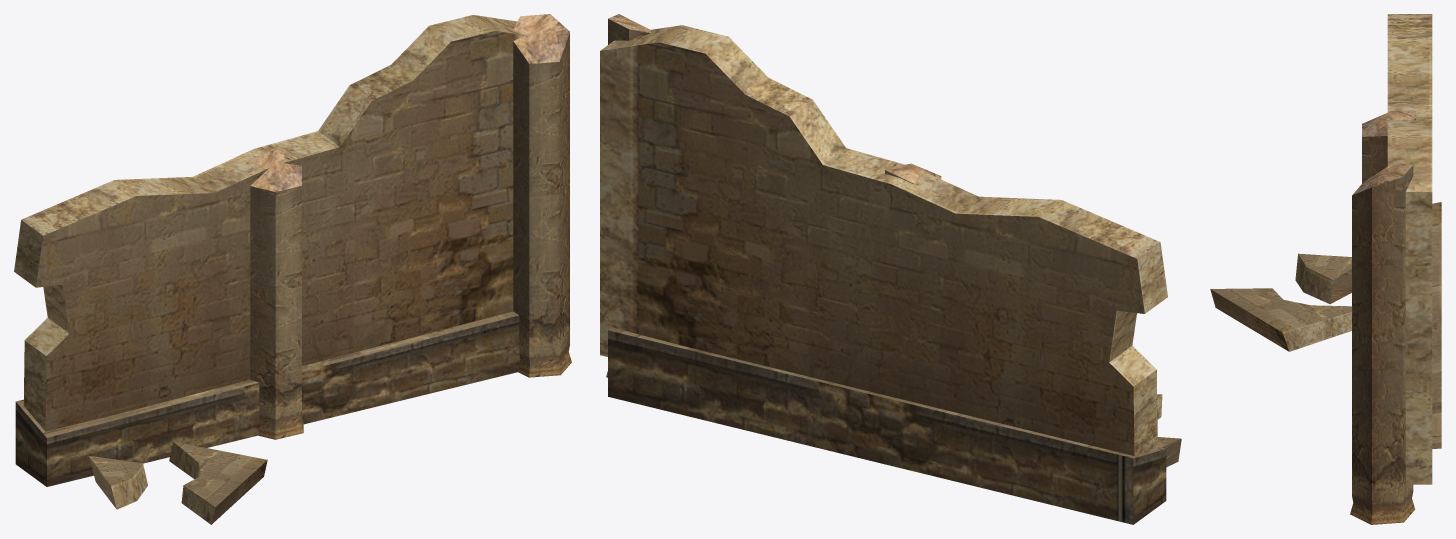
The model's file is yw_huxiaoshamo_qiang03.FBX.
3 views of the same model, side by side, from view 1: azimuth 30°, elevation 25°; view 2: azimuth 150°, elevation 25°; view 3: azimuth 270°, elevation 25° (orthographic). The views are drawn at different scales.
Visible parts, largest first — view 1: yw_huxiaoshamo_qiang03; view 2: yw_huxiaoshamo_qiang03; view 3: yw_huxiaoshamo_qiang03.
Part boxes in pixels (box(x1,y1,x2,y2)): yw_huxiaoshamo_qiang03: box(14, 14, 571, 524); yw_huxiaoshamo_qiang03: box(600, 14, 1181, 524); yw_huxiaoshamo_qiang03: box(1210, 14, 1441, 524).
Bounding box in the file's own units: 945 × 585 × 352.
